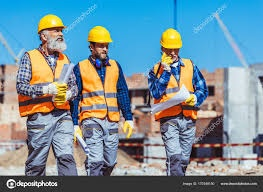yellow: (35, 13, 68, 51), (85, 25, 113, 61), (160, 28, 183, 63)
